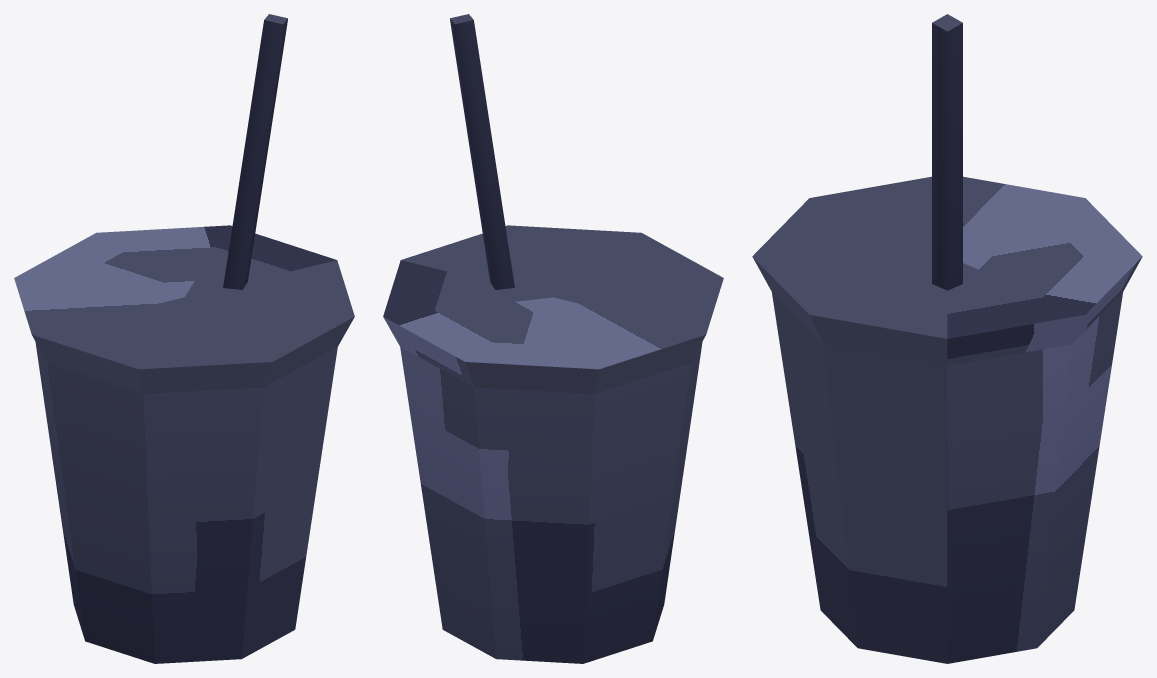
The model's file is cydress.cup.glb.
The picture shows the model from 3 angles, left to right: view 1: azimuth 30°, elevation 25°; view 2: azimuth 150°, elevation 25°; view 3: azimuth 270°, elevation 25°; orthographic projection. The views are drawn at different scales.
Visible parts, largest first — view 1: kit_body; view 2: kit_body; view 3: kit_body.
Boxes of the visible parts, left/top/right/bottom form: kit_body: left=14, top=14, right=354, bottom=663; kit_body: left=383, top=14, right=723, bottom=663; kit_body: left=752, top=14, right=1142, bottom=663.
Bounding box in the file's own units: 0.2 × 0.3613 × 0.2.
2 materials, 2 textured.
